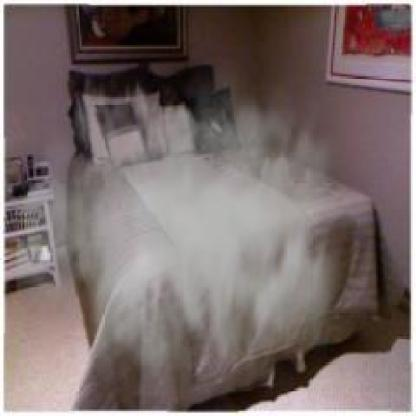Smoke: (17, 42, 363, 398)
